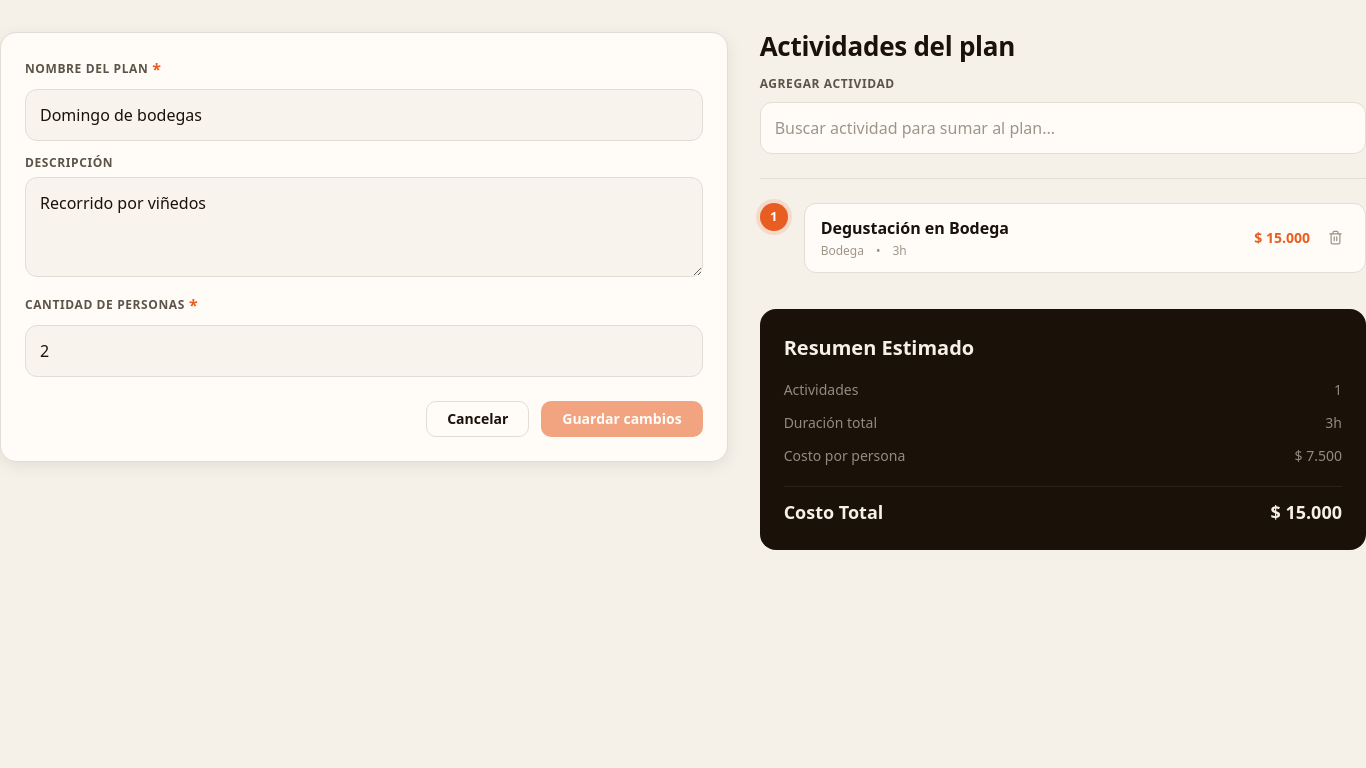
Test: EditPlanForm › removes an activity stop from the plan asking confirmation when it leaves the plan empty (CU28)
The width and height of the screenshot is (1366, 768).
Click the button named "Quitar Degustación en Bodega": (1336, 238) [1322,224,1349,251]
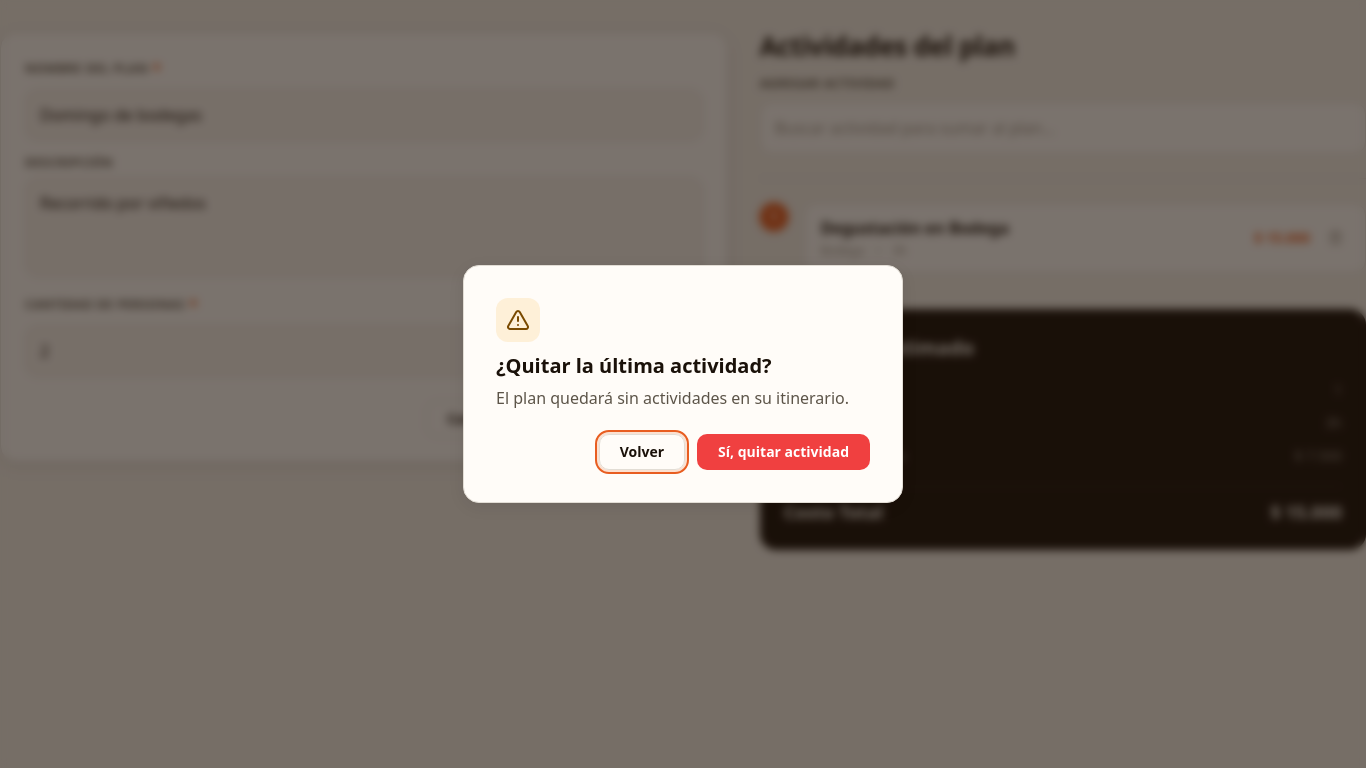
Now the dialog "¿Quitar la última actividad?" is shown, box [463,265,903,503]
Click the button "Sí, quitar actividad": (784, 452) [697,434,870,470]
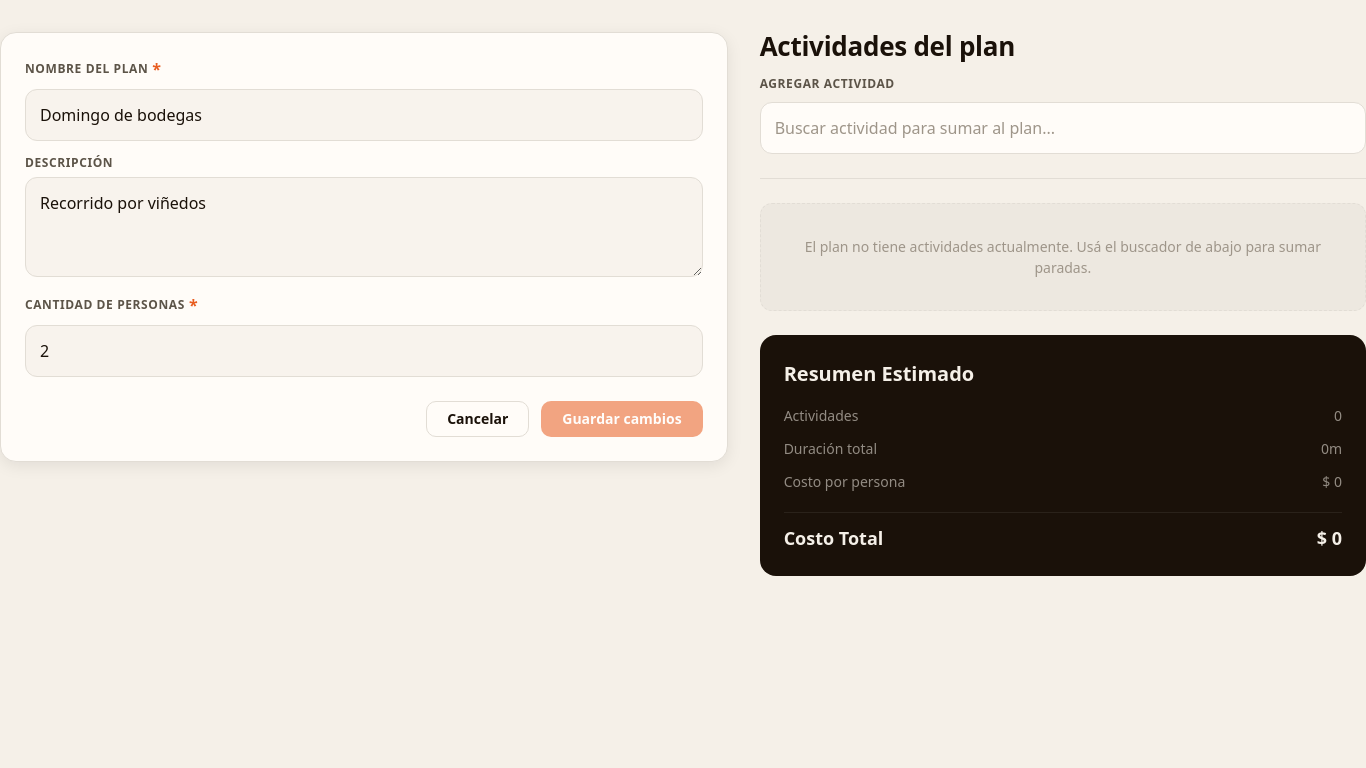
Now the text "Degustación en Bodega" is gone
